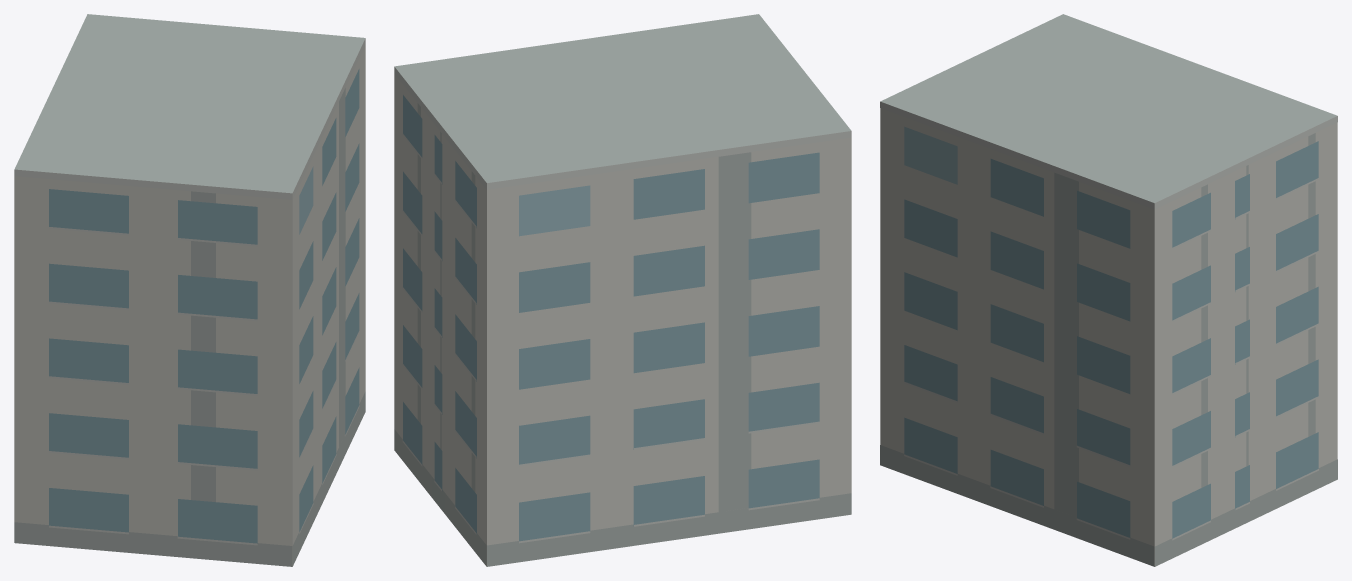
The model's file is survey-upis-32620890.glb.
The picture shows the model from 3 angles, left to right: view 1: azimuth 30°, elevation 25°; view 2: azimuth 150°, elevation 25°; view 3: azimuth 270°, elevation 25°; orthographic projection. The views are drawn at different scales.
Visible parts, largest first — view 1: survey-upis-32620890.tmp; view 2: survey-upis-32620890.tmp; view 3: survey-upis-32620890.tmp.
Part boxes in pixels (x1,y1,x2,y2): survey-upis-32620890.tmp: (14, 14, 365, 566); survey-upis-32620890.tmp: (394, 14, 851, 566); survey-upis-32620890.tmp: (880, 14, 1337, 566).
Bounding box in the file's own units: 15.18 × 13.6 × 15.52.
